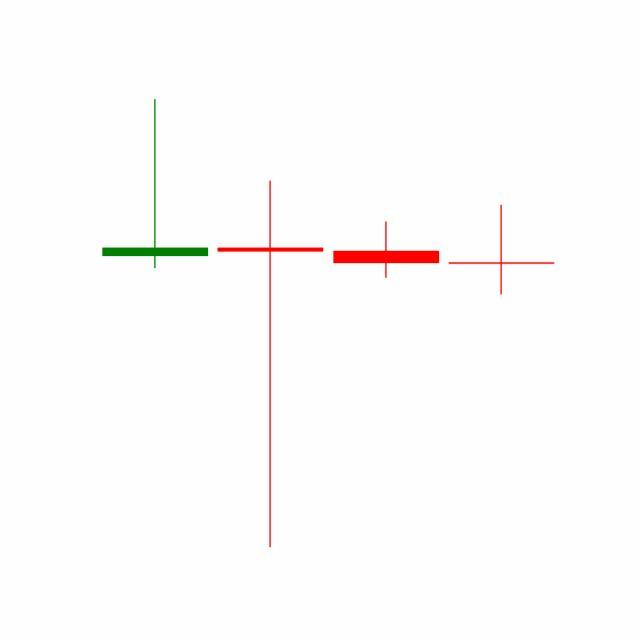Spinning Top: (329, 221, 445, 280)
